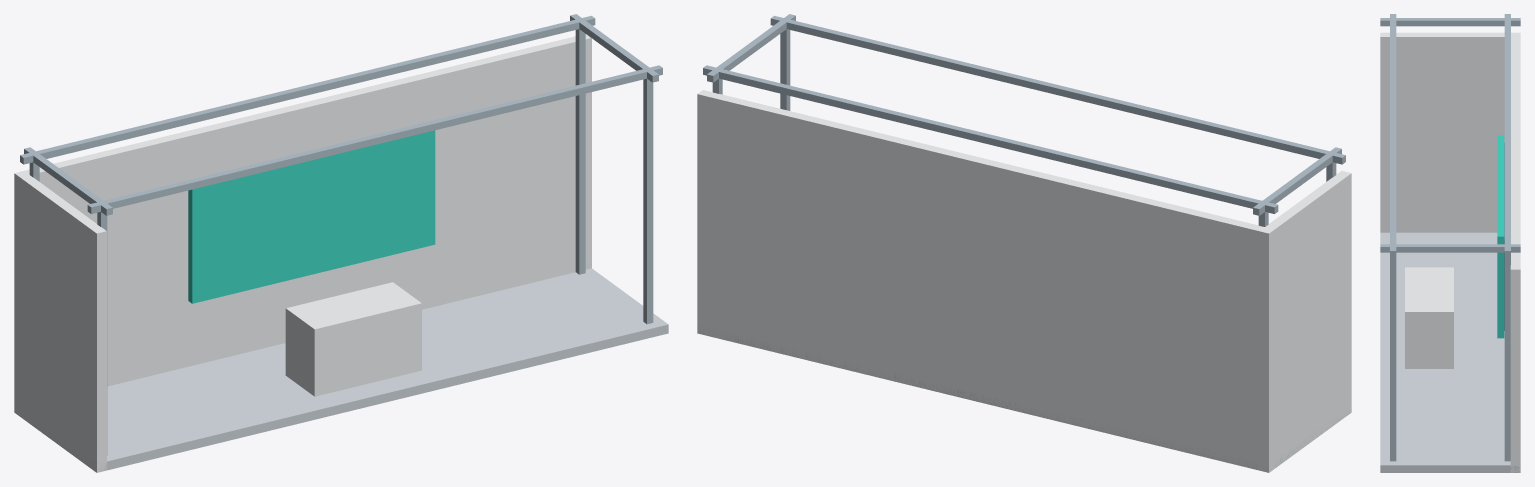
3 views of the same model, side by side, from view 1: azimuth 30°, elevation 25°; view 2: azimuth 150°, elevation 25°; view 3: azimuth 270°, elevation 25° (orthographic). The views are drawn at different scales.
Visible parts, largest first — view 1: Exhibition Booth Concept; view 2: Exhibition Booth Concept; view 3: Exhibition Booth Concept.
Boxes of the visible parts, x1,y1,x2,y2 form: Exhibition Booth Concept: (14,14,668,472); Exhibition Booth Concept: (697,14,1351,472); Exhibition Booth Concept: (1380,14,1520,472).
Bounding box in the file's own units: 8 × 3.49 × 2.
